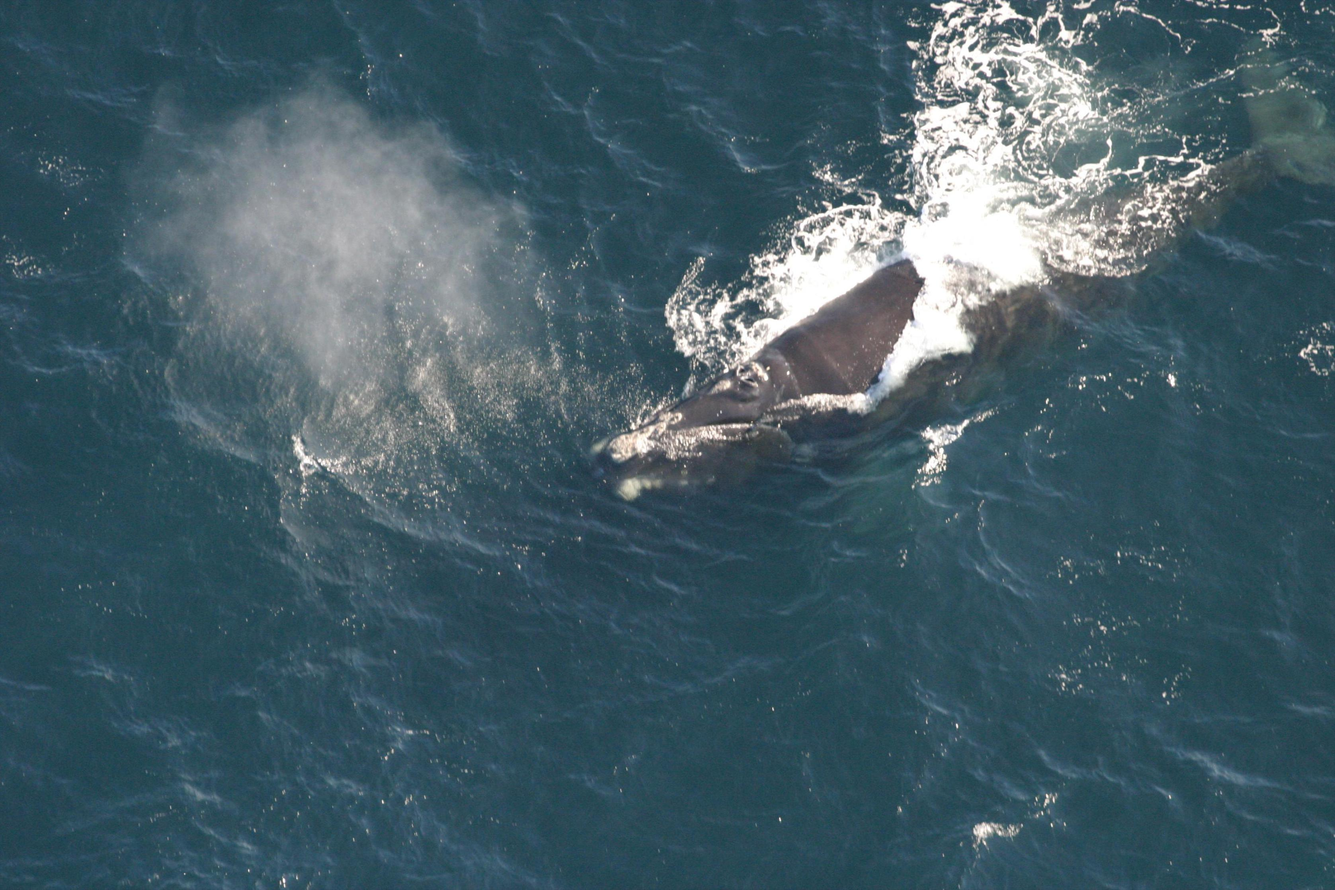whale: (572, 23, 1335, 550)
